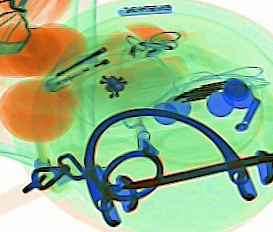lighter: (43, 36, 140, 94)
